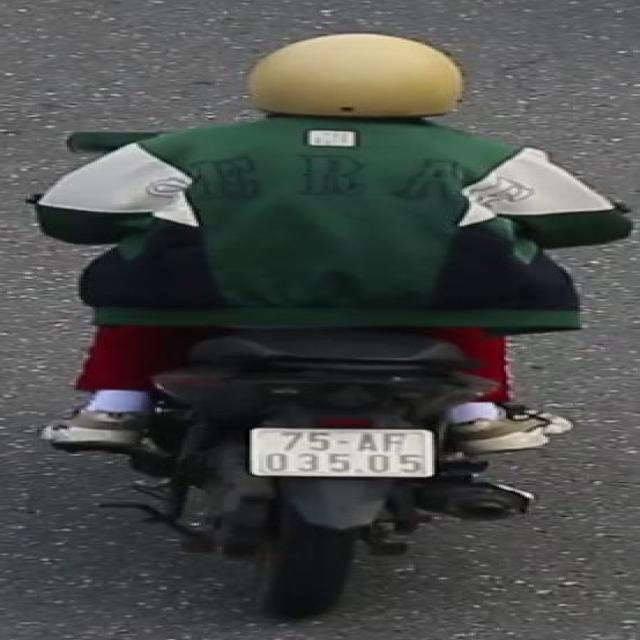LP: (235, 421, 450, 486)
helmet: (235, 28, 480, 140)
